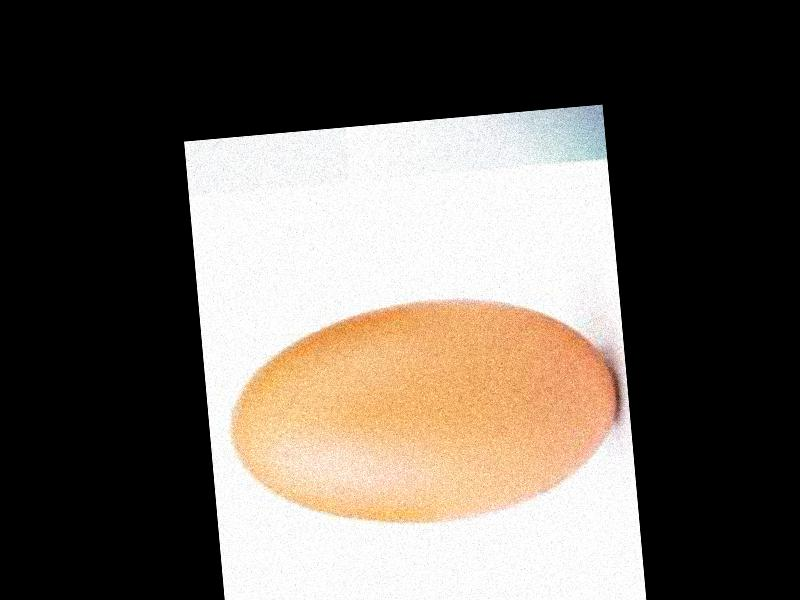Eggs: (222, 285, 625, 539)
